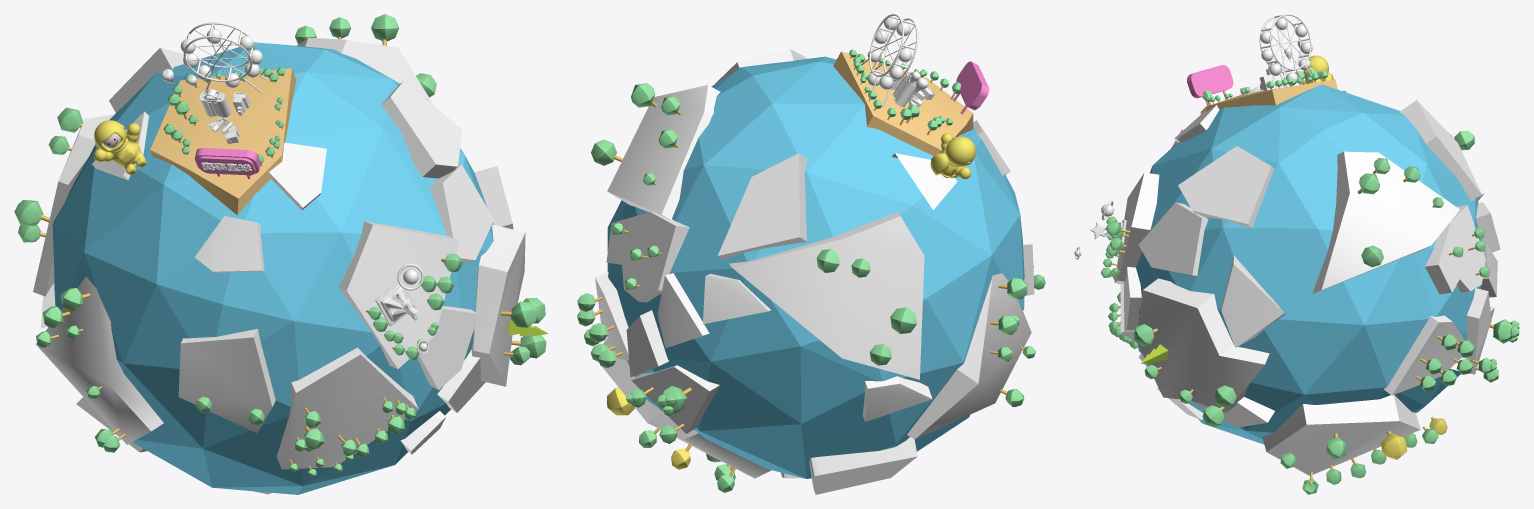
The model's file is starv.glb.
3 renders of one model, left to right at view 1: azimuth 30°, elevation 25°; view 2: azimuth 150°, elevation 25°; view 3: azimuth 270°, elevation 25°, orthographic. The views are drawn at different scales.
Visible parts, largest first — view 1: 地球, 大陆, 树木-绿色, 空白-房子黄色, 空白-白色, 太空人-黄色树木, 星球2, 空白-房体, 树木-树根; view 2: 地球, 大陆, 树木-绿色, 空白-房子黄色, 空白-白色, 太空人-黄色树木, 空白-房体, 树木-黄色树木, 树木-树根; view 3: 大陆, 地球, 树木-绿色, 空白-白色, 空白-房子黄色, 空白-房体, 树木-黄色树木, 树木-树根, 星球2.
Boxes of the visible parts, bbox=[...] form: 地球: bbox=[52, 42, 493, 494]; 大陆: bbox=[33, 37, 525, 494]; 树木-绿色: bbox=[14, 14, 546, 477]; 空白-房子黄色: bbox=[150, 68, 296, 214]; 空白-白色: bbox=[180, 22, 265, 144]; 太空人-黄色树木: bbox=[93, 120, 146, 174]; 星球2: bbox=[375, 264, 428, 354]; 空白-房体: bbox=[194, 148, 260, 178]; 树木-树根: bbox=[40, 36, 520, 469]; 地球: bbox=[607, 56, 1024, 478]; 大陆: bbox=[595, 48, 1034, 494]; 树木-绿色: bbox=[577, 49, 1045, 492]; 空白-房子黄色: bbox=[833, 51, 973, 155]; 空白-白色: bbox=[855, 14, 934, 107]; 太空人-黄色树木: bbox=[930, 133, 975, 179]; 空白-房体: bbox=[953, 61, 989, 114]; 树木-黄色树木: bbox=[606, 387, 690, 469]; 树木-树根: bbox=[594, 57, 1023, 476]; 大陆: bbox=[1114, 90, 1500, 475]; 地球: bbox=[1136, 84, 1481, 444]; 树木-绿色: bbox=[1101, 69, 1519, 494]; 空白-白色: bbox=[1240, 14, 1312, 95]; 空白-房子黄色: bbox=[1200, 79, 1337, 114]; 空白-房体: bbox=[1187, 65, 1233, 105]; 树木-黄色树木: bbox=[1381, 418, 1447, 459]; 树木-树根: bbox=[1111, 78, 1493, 485]; 星球2: bbox=[1074, 200, 1126, 259].
Size of the model in its own units: 81.71 by 88.45 by 87.37.
